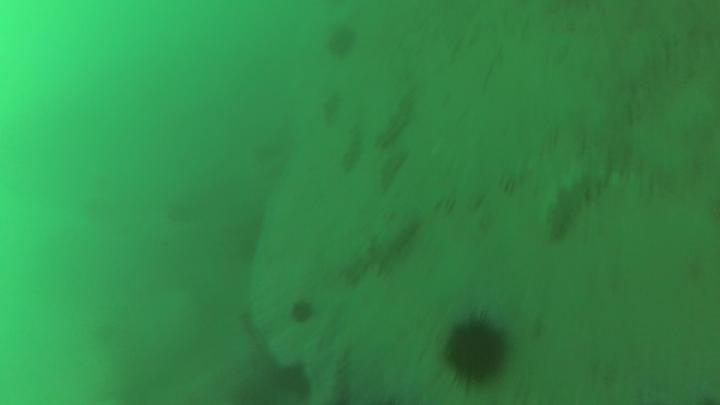echinus: (443, 317, 505, 381), (328, 26, 358, 54), (291, 304, 310, 323)
holothurian: (541, 170, 607, 240), (375, 88, 416, 149), (323, 356, 352, 404), (342, 130, 362, 173), (324, 99, 338, 124)
